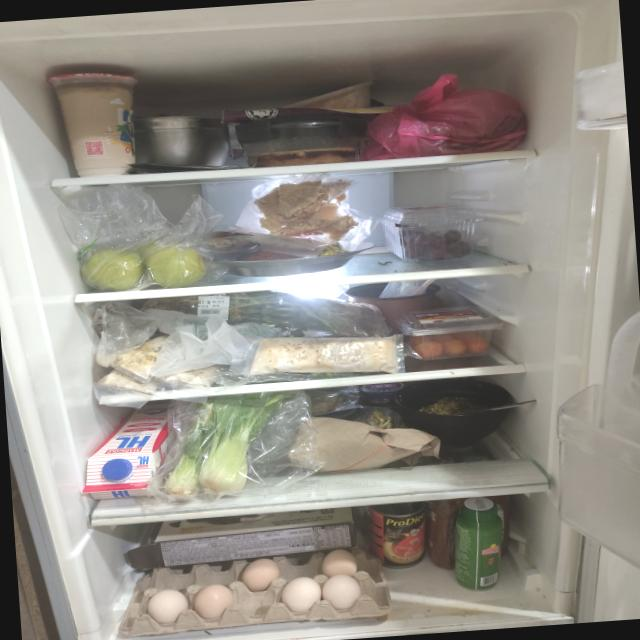apple: (79, 231, 207, 294)
egg: (113, 545, 388, 639)
grape: (394, 218, 472, 262)
pakchoy: (158, 389, 305, 501)
tempeh: (94, 329, 224, 399), (246, 328, 400, 384)
unknown_bag: (353, 68, 529, 160)
